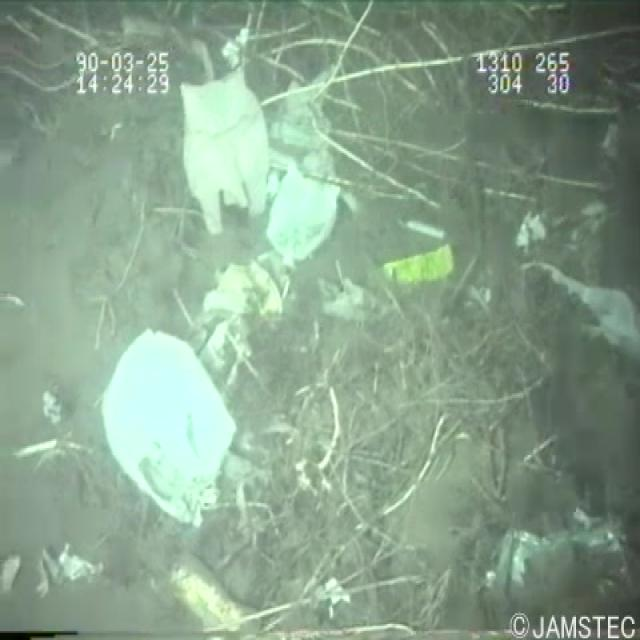plastic: (167, 62, 344, 276), (95, 316, 241, 532)
